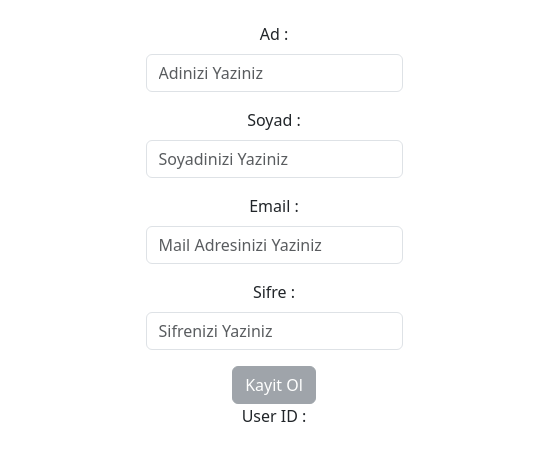
Test: Tests › Error Messages › password input test fail for invalid email address
The image size is (549, 452).
Type "12345" into the password field with test id "password-input". click: (275, 331)
box: 146,312 -> 403,350
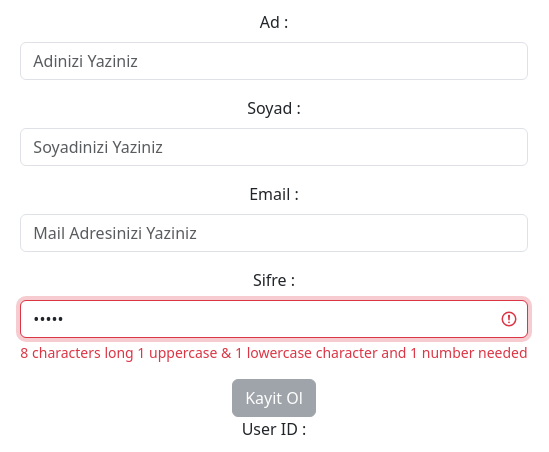
Result: the text "8 characters long 1 uppercase & 1 lowercase character and 1 number needed" is shown at 20,342 -> 528,362
